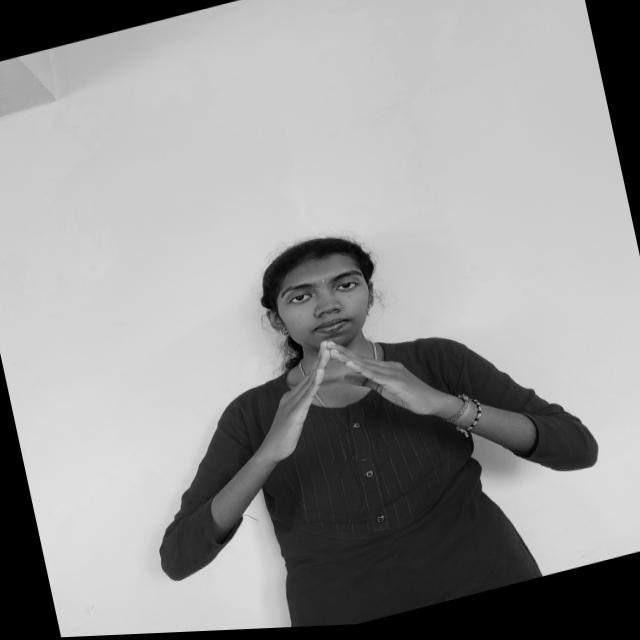Home: (214, 308, 461, 476)
